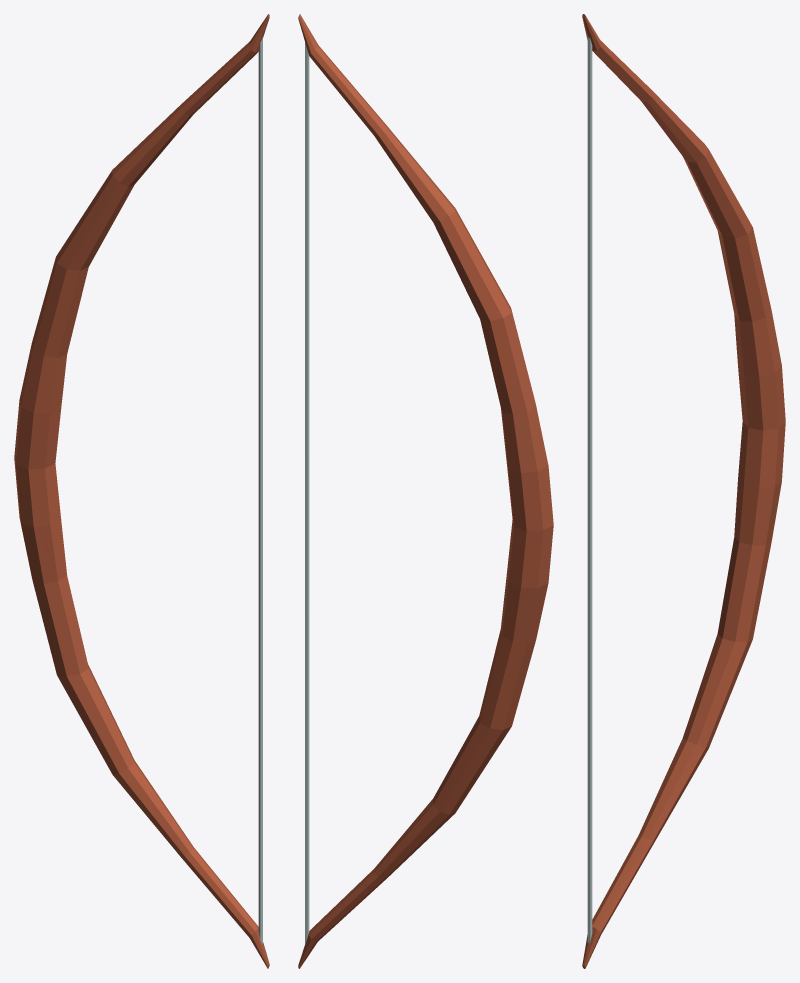
Rendered from Bow.glb.
3 renders of one model, left to right at view 1: azimuth 30°, elevation 25°; view 2: azimuth 210°, elevation 25°; view 3: azimuth 270°, elevation 25°, orthographic.
Parts seen in each view (by area): view 1: Bow 2; view 2: Bow 2; view 3: Bow 2.
Part boxes in pixels (<box>): Bow 2: <box>14,14,269,968</box>; Bow 2: <box>298,14,553,968</box>; Bow 2: <box>582,14,785,968</box>.
Bounding box in the file's own units: 0.2 × 1.11 × 0.2149.
Materials: 1 (1 with a texture image).
